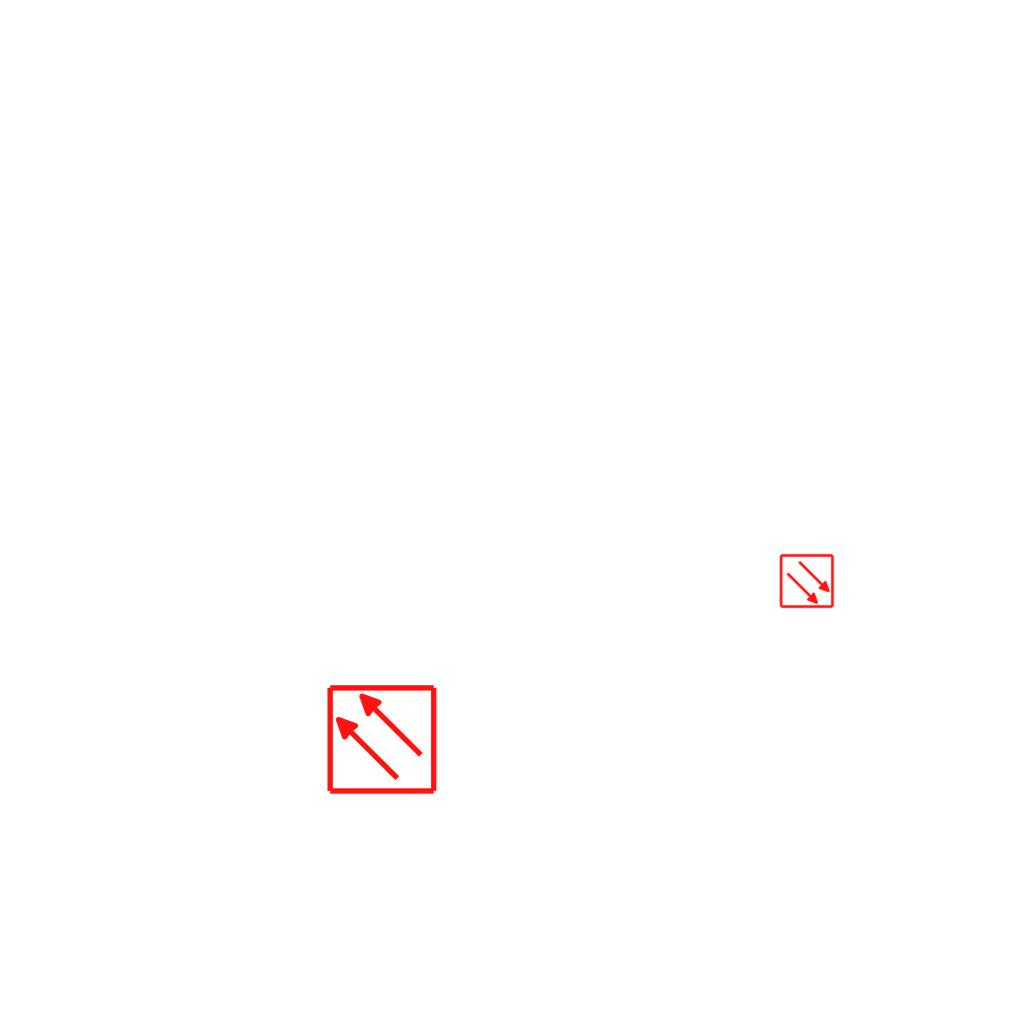RMO_Rauchmelder_optischer: (325, 683, 438, 796), (779, 553, 835, 609)
